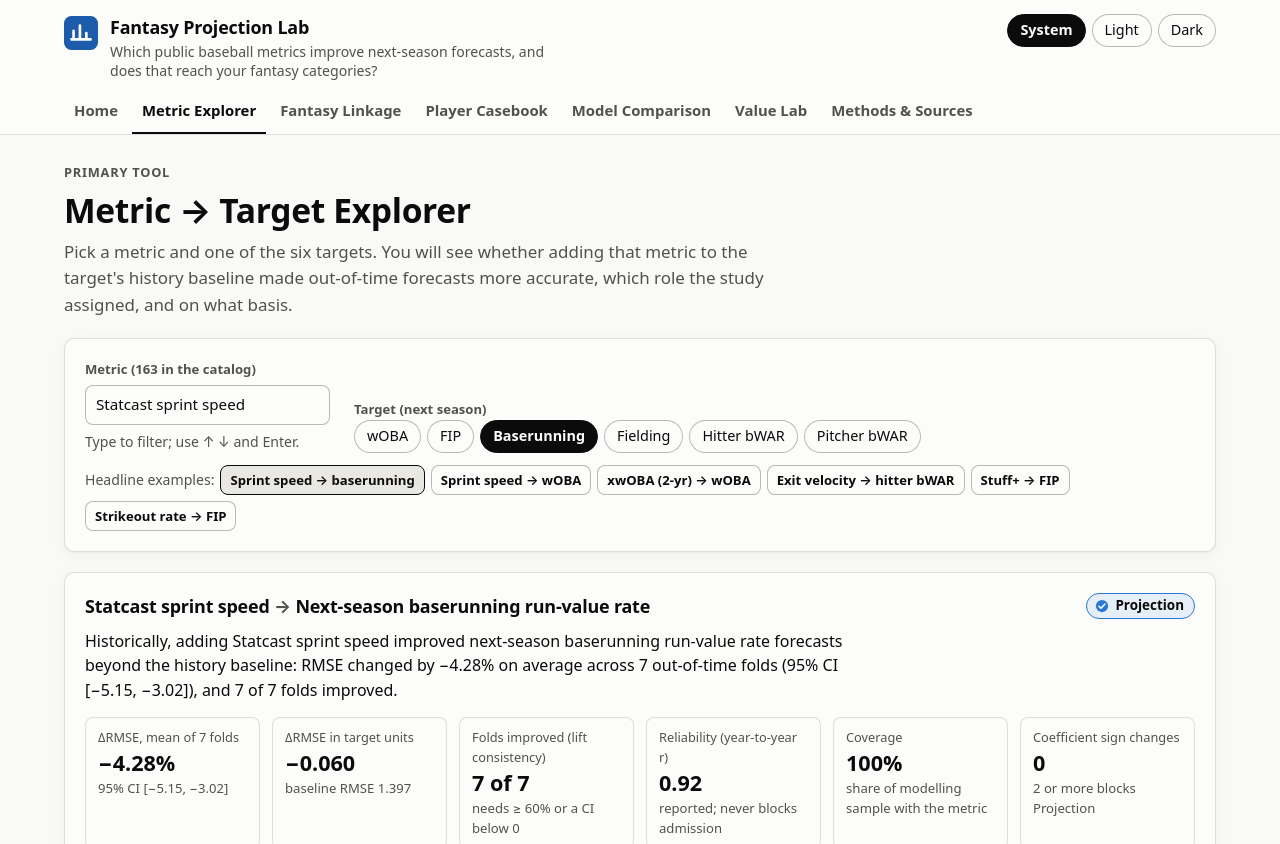
Test: Metric → Target Explorer › switching the target shows the same metric failing for wOBA, and "Not evaluated" for FIP
Click the radio button labelled "wOBA" at {"x": 388, "y": 436}, box [354, 420, 421, 452]
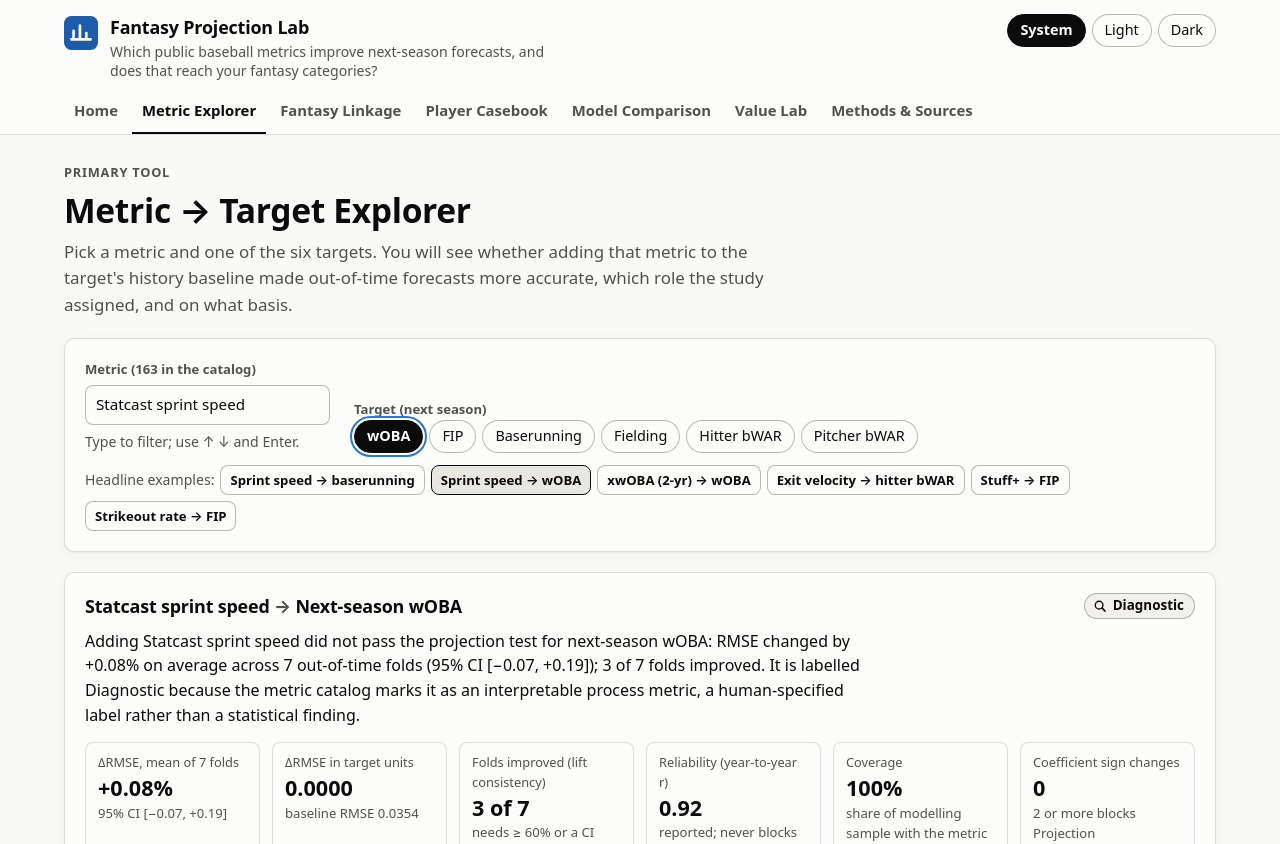
Expected: the text "+0.08%" is shown, [98, 773, 173, 802]
Click the radio button labelled "FIP" at {"x": 453, "y": 436}, box [429, 420, 476, 452]
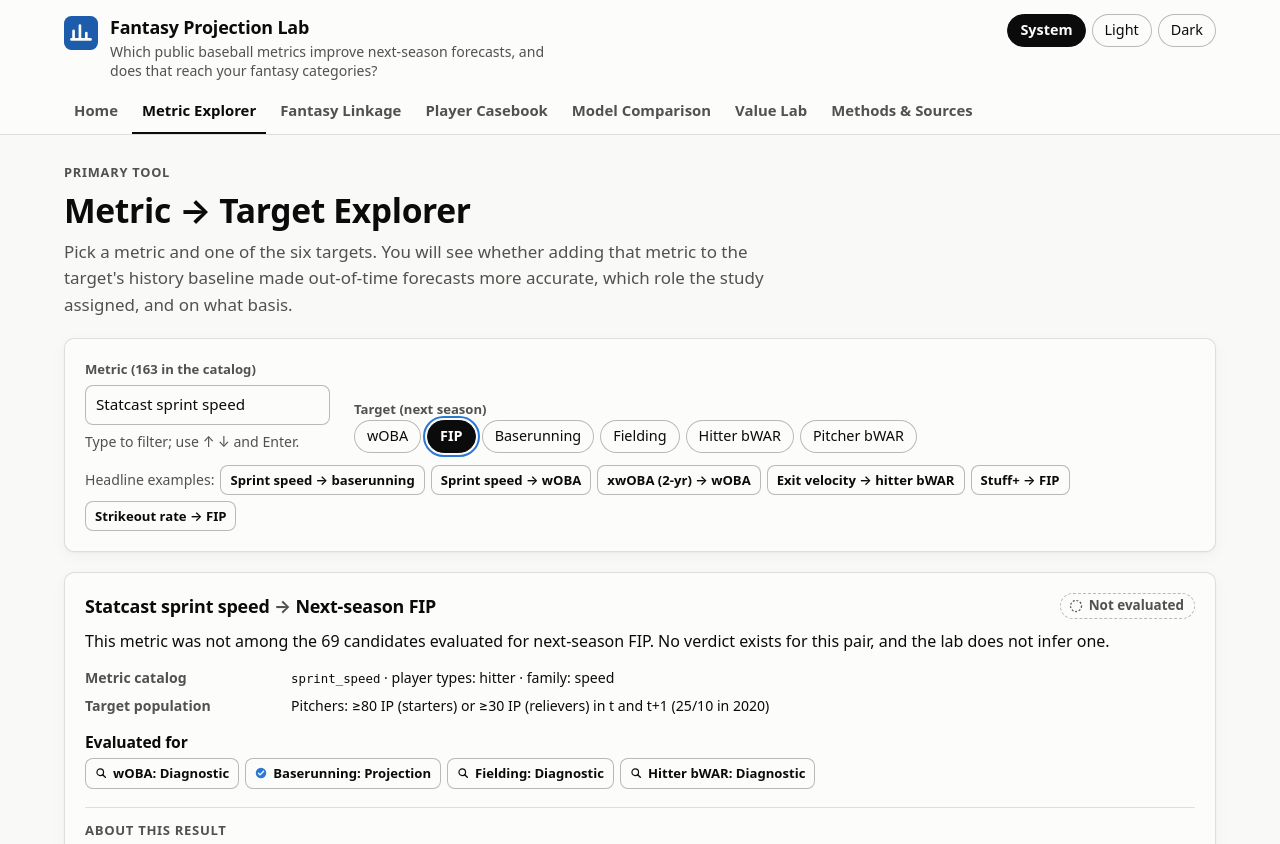
Expected: the text "No verdict exists for this pair" is shown, [650, 630, 1110, 652]
